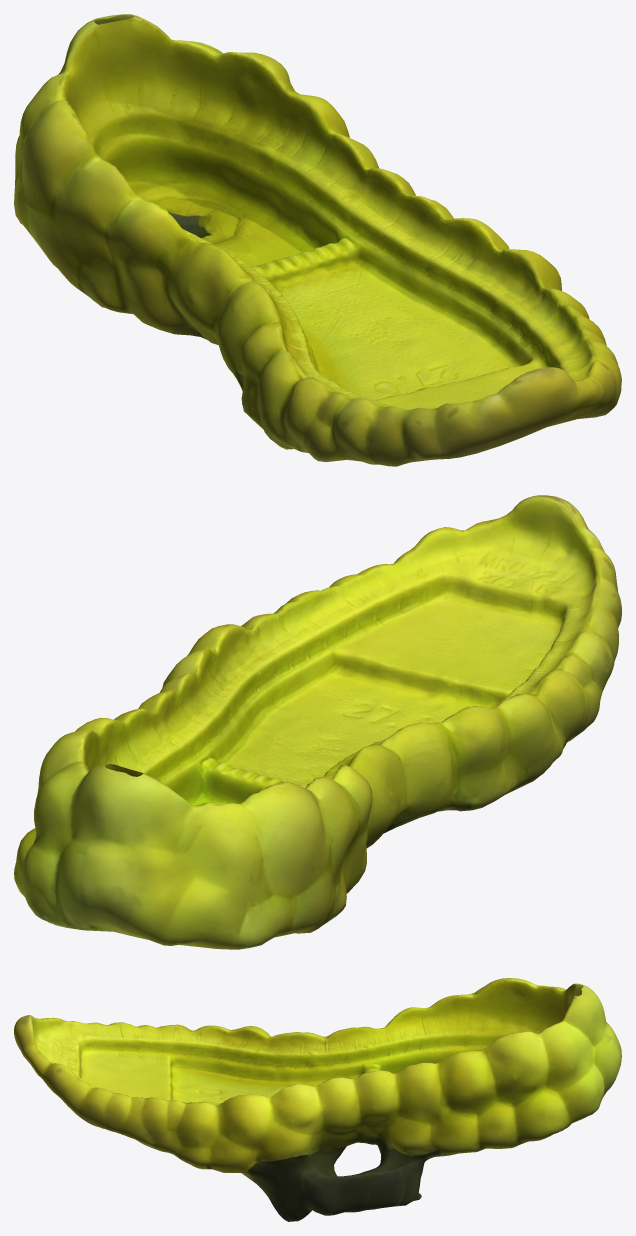
Rendered from 3DModel.obj.
The picture shows the model from 3 angles, top to bottom: view 1: azimuth 30°, elevation 25°; view 2: azimuth 150°, elevation 25°; view 3: azimuth 270°, elevation 25°; orthographic projection. The views are drawn at different scales.
Parts seen in each view (by area): view 1: submesh; view 2: submesh; view 3: submesh.
Part boxes in pixels (bbox=[...]): submesh: bbox=[14, 14, 621, 466]; submesh: bbox=[14, 495, 621, 949]; submesh: bbox=[14, 978, 621, 1221].
Bounding box in the file's own units: 0.1271 × 0.1079 × 0.3137.
1 material, 1 textured.
